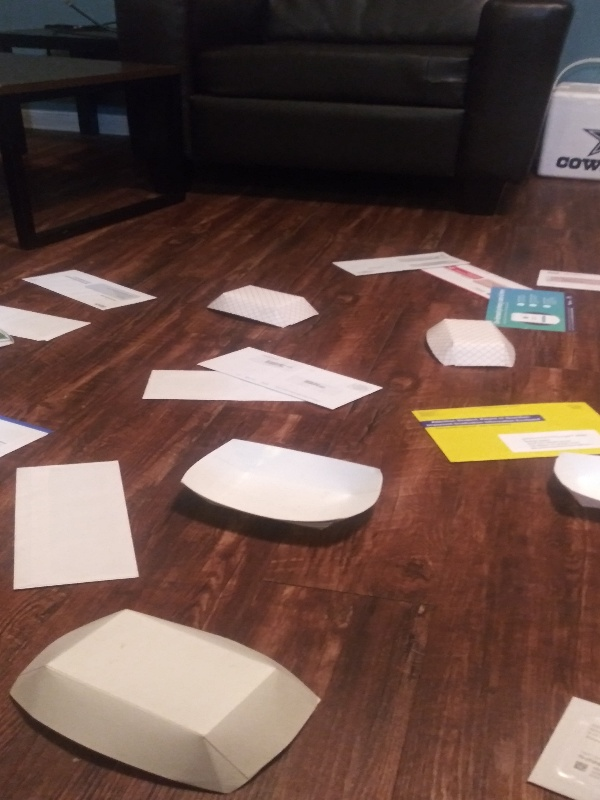plate: (6, 604, 328, 799), (171, 434, 390, 552), (200, 282, 328, 332), (419, 316, 524, 373), (540, 449, 600, 525)
